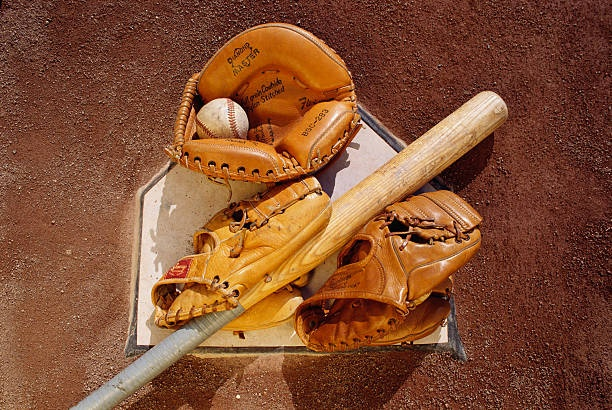bita: (65, 94, 504, 410)
